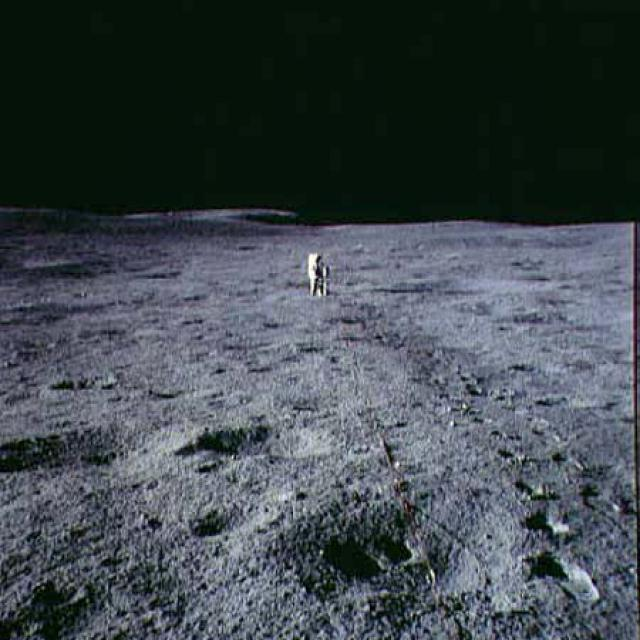crater: (283, 485, 543, 610), (0, 401, 192, 499), (177, 399, 357, 478), (356, 257, 568, 310), (164, 490, 303, 551), (527, 378, 632, 429), (506, 346, 596, 386), (45, 371, 140, 388)
